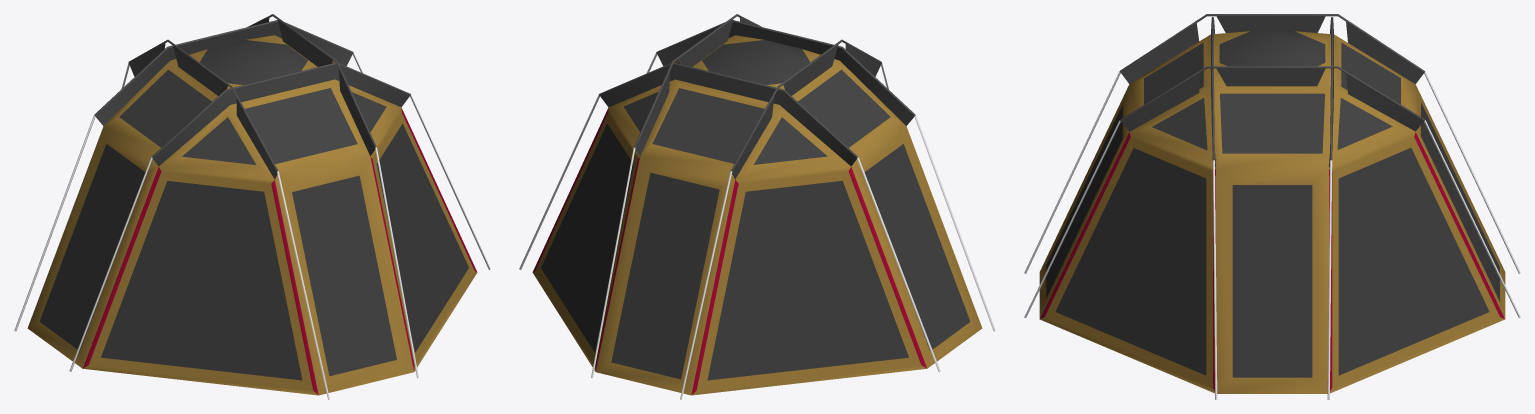
File: tent.glb
3 renders of one model, left to right at view 1: azimuth 30°, elevation 25°; view 2: azimuth 150°, elevation 25°; view 3: azimuth 270°, elevation 25°, orthographic. The views are drawn at different scales.
Visible parts, largest first — view 1: Cube.001; view 2: Cube.001; view 3: Cube.001.
Boxes of the visible parts, bbox=[...] form: Cube.001: bbox=[14, 14, 490, 399]; Cube.001: bbox=[519, 14, 995, 399]; Cube.001: bbox=[1024, 14, 1520, 399].
Size of the model in its own units: 4.41 by 2.5 by 4.41.
